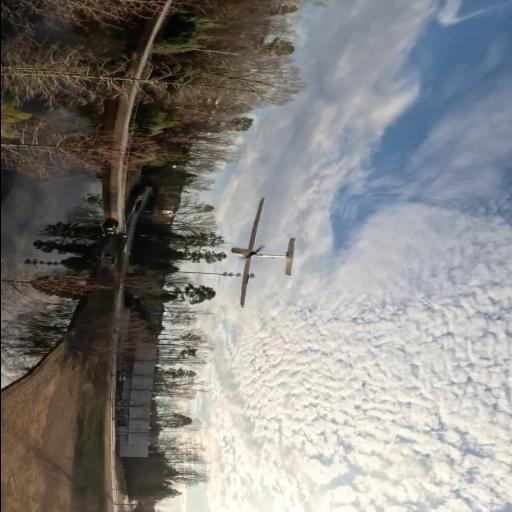uav: (228, 196, 300, 310)
